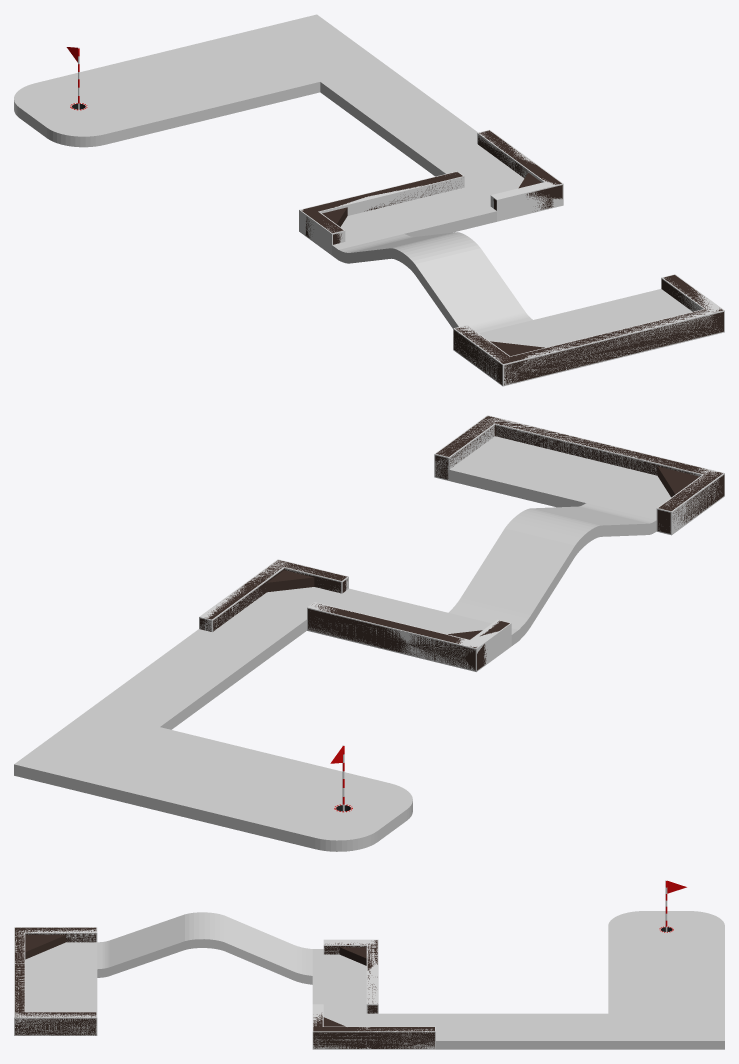
Rendered from Level 1(New).fbx.
3 renders of one model, top to bottom at view 1: azimuth 30°, elevation 25°; view 2: azimuth 150°, elevation 25°; view 3: azimuth 270°, elevation 25°, orthographic. The views are drawn at different scales.
Visible parts, largest first — view 1: Course Ground, Barrier 1, BarrierExtra; view 2: Course Ground, Barrier 1, BarrierExtra, Corner 2, Corner 1; view 3: Course Ground, Barrier 1, BarrierExtra, Corner 1, Corner3.
Boxes of the visible parts, box(x1,y1,x2,y2) form: Course Ground: box(14, 14, 692, 347); Barrier 1: box(301, 130, 723, 385); BarrierExtra: box(299, 130, 724, 386); Course Ground: box(14, 436, 670, 851); Barrier 1: box(200, 416, 724, 670); BarrierExtra: box(199, 415, 724, 671); Corner 2: box(267, 570, 314, 592); Corner 1: box(657, 466, 699, 497); Course Ground: box(25, 911, 724, 1049); Barrier 1: box(15, 927, 434, 1048); BarrierExtra: box(14, 927, 435, 1049); Corner 1: box(25, 935, 65, 959); Corner3: box(339, 947, 366, 965).
Bounding box in the file's own units: 1747 × 391 × 4039.
